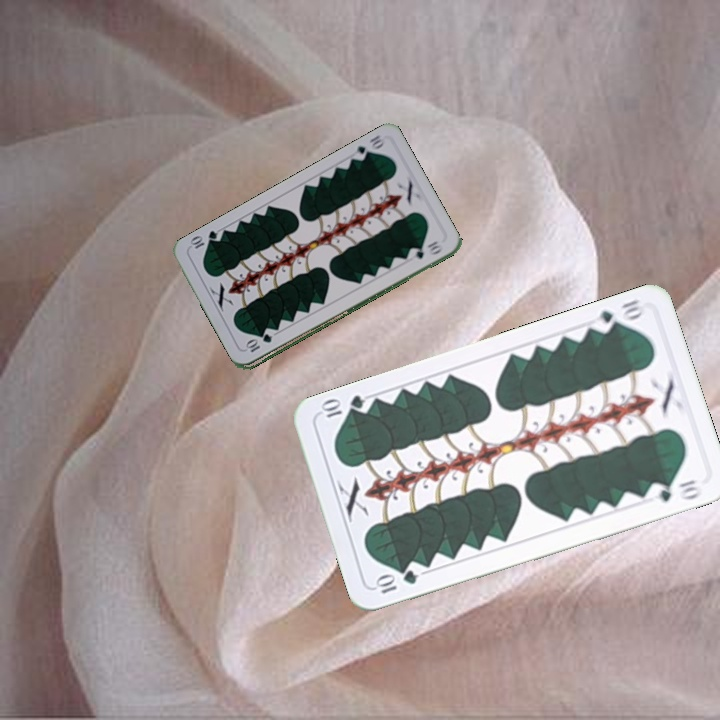G10: (588, 295, 648, 336), (371, 566, 420, 597), (349, 131, 386, 163), (243, 331, 275, 355)
